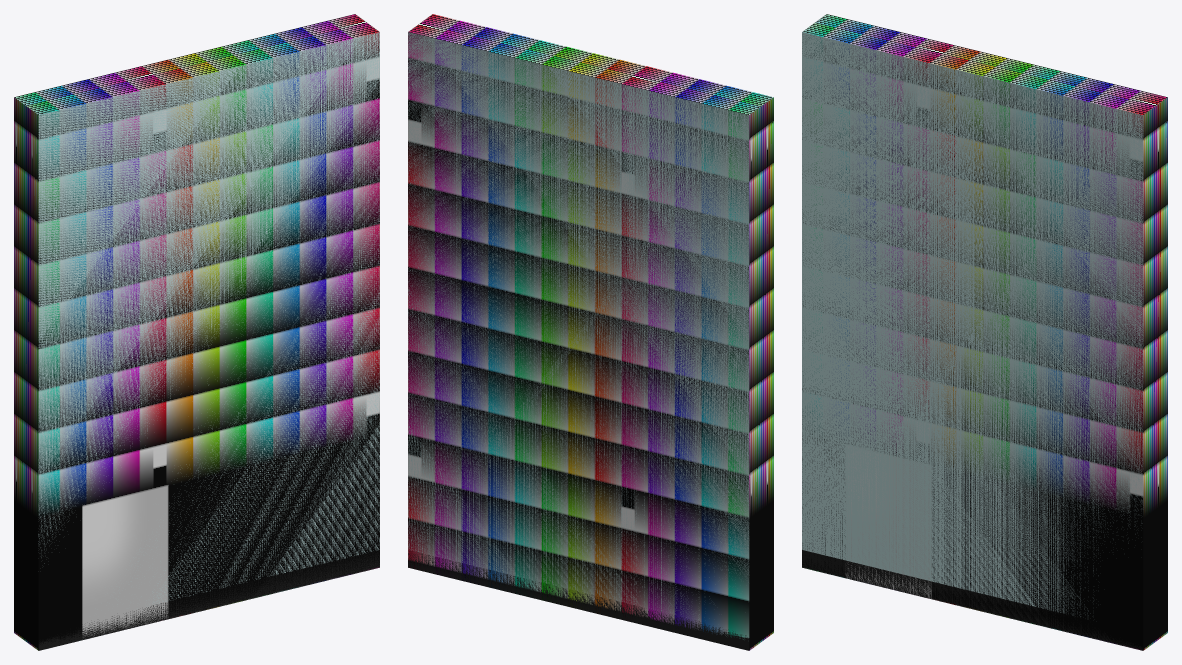
File: interiorWall_line_2.fbx
3 renders of one model, left to right at view 1: azimuth 30°, elevation 25°; view 2: azimuth 150°, elevation 25°; view 3: azimuth 330°, elevation 25°, orthographic.
Visible parts, largest first — view 1: trigger, interiorWall_line_2; view 2: trigger, interiorWall_line_2; view 3: interiorWall_line_2, trigger.
Part boxes in pixels (x1,y1,x2,y2): trigger: (14,14,379,650); interiorWall_line_2: (38,32,379,650); trigger: (408,14,773,650); interiorWall_line_2: (408,32,749,650); interiorWall_line_2: (802,32,1143,650); trigger: (802,14,1167,650).
Size of what is drawn, in the model's own units: 200 by 300 by 25.
